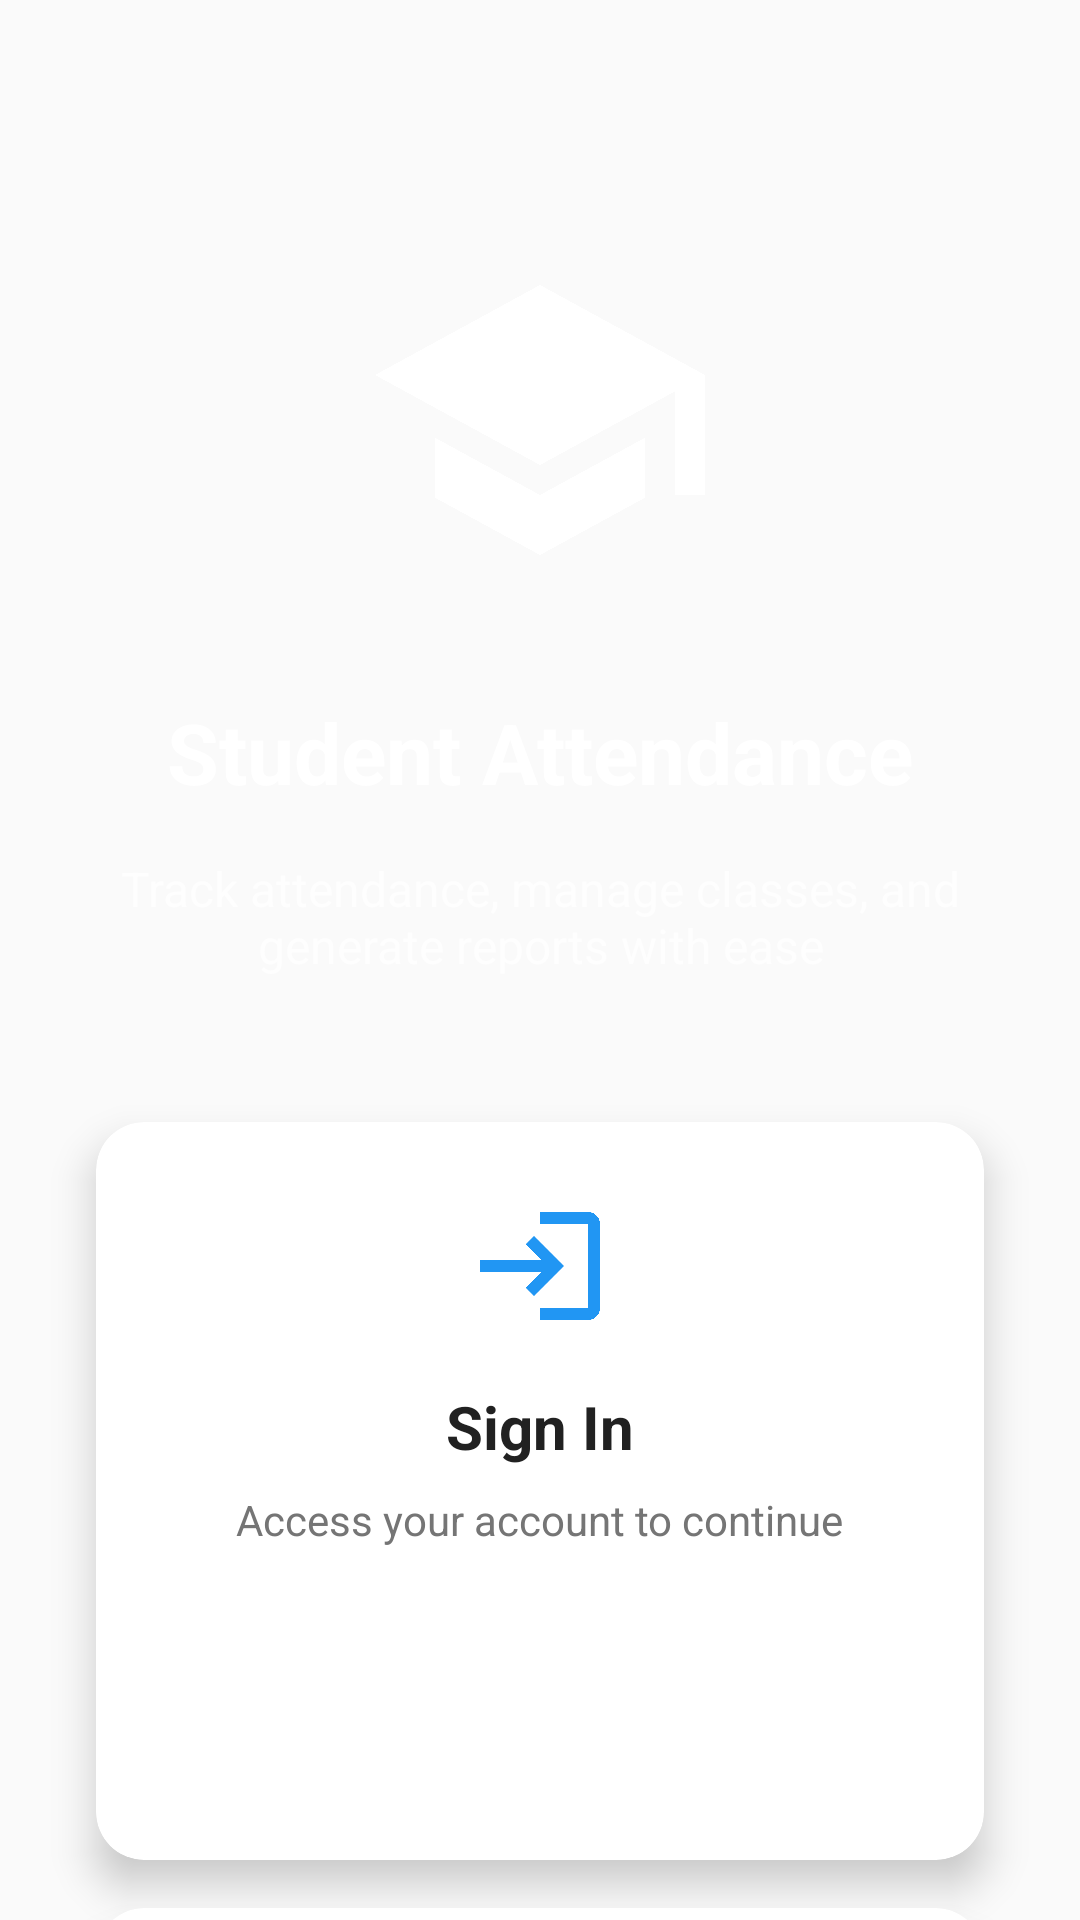

Where to tap for icons on this 1080×1920 app screen, as point (x, y):
Login Icon: point (540, 1266)
